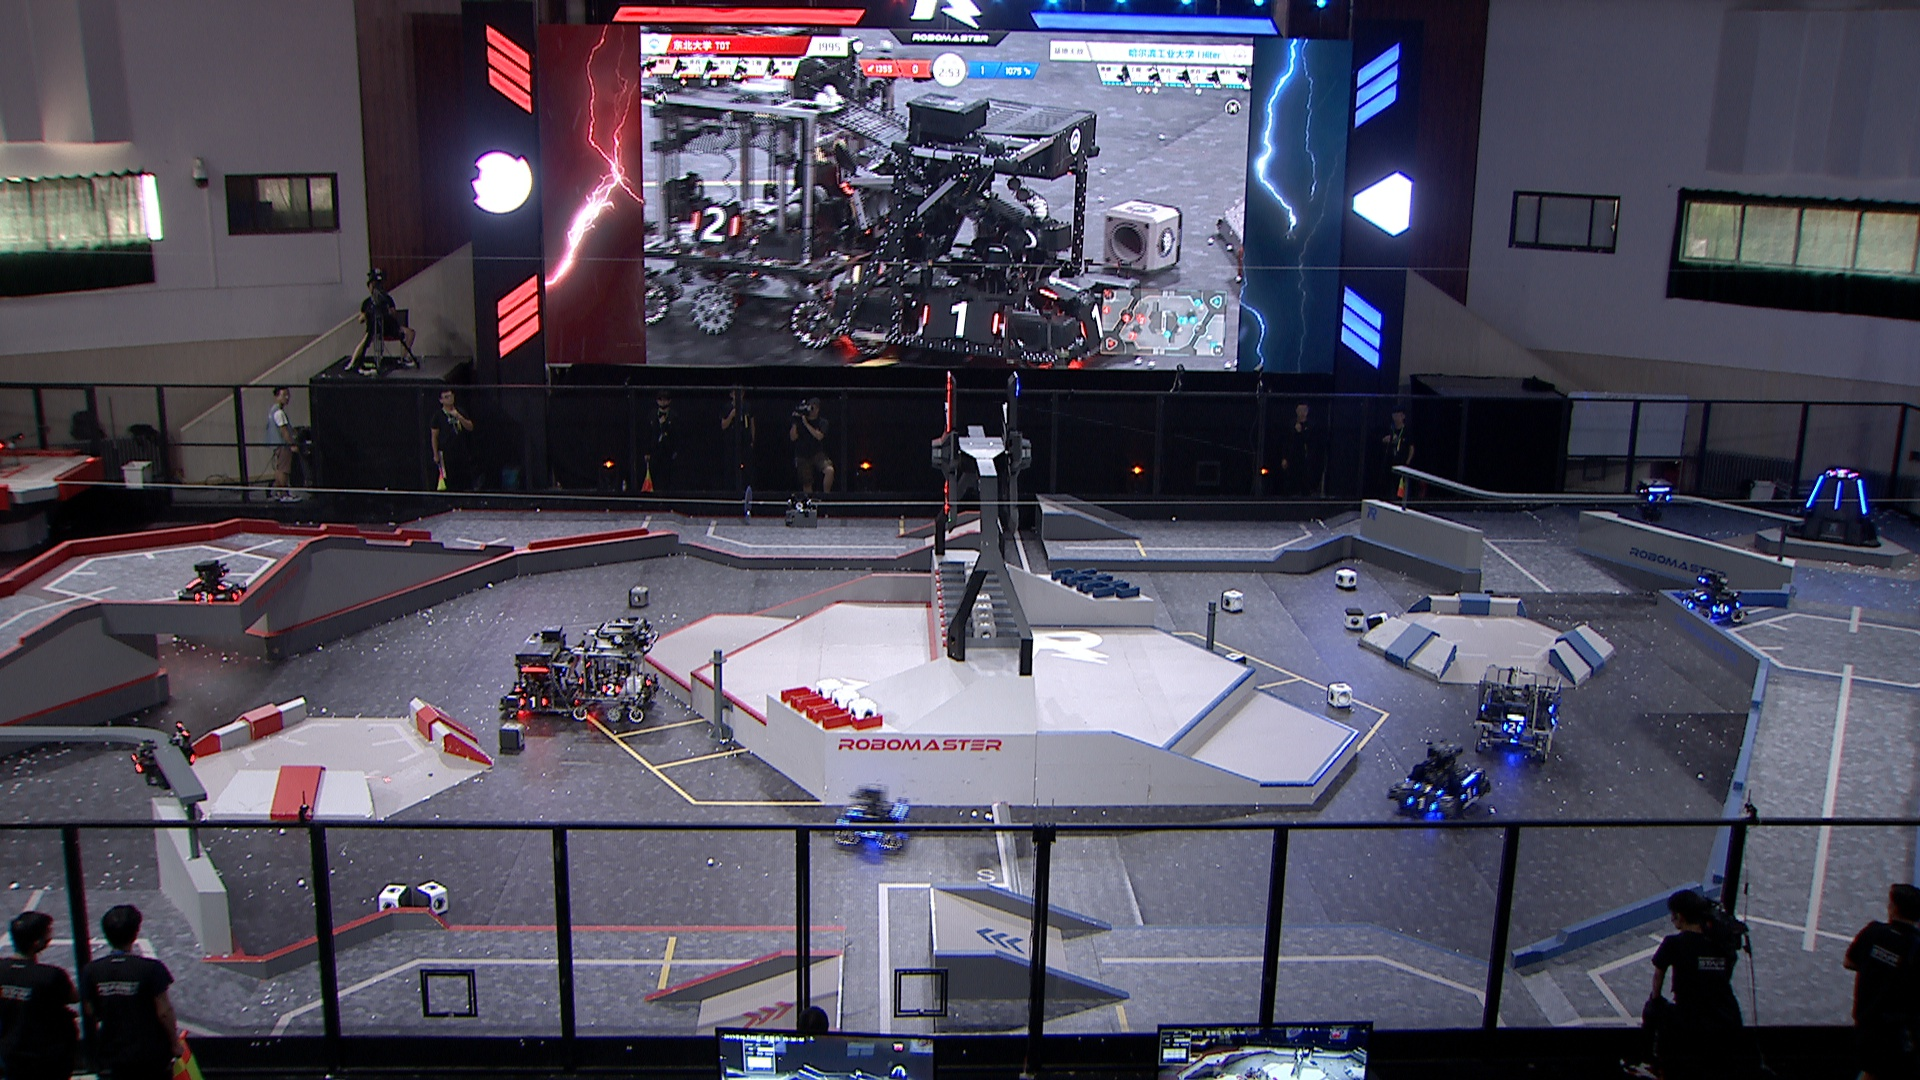armor: (1404, 793, 1439, 814), (514, 694, 549, 712), (855, 820, 884, 840), (1414, 781, 1447, 798), (1855, 476, 1869, 516), (1807, 475, 1822, 508), (1457, 783, 1481, 803), (844, 799, 865, 820), (191, 589, 218, 605), (599, 680, 622, 698), (1832, 477, 1844, 510), (1647, 491, 1673, 505), (1688, 585, 1709, 603), (128, 752, 142, 775), (1712, 600, 1731, 617), (1501, 721, 1522, 737), (216, 579, 233, 593)
base: (1785, 463, 1883, 549)
car: (1474, 661, 1567, 767), (574, 616, 659, 727), (1382, 738, 1495, 820), (498, 629, 589, 723), (837, 783, 916, 855), (175, 555, 249, 612), (1676, 570, 1750, 622)
ignore: (832, 95, 1139, 371), (641, 59, 895, 324), (1826, 467, 1859, 480)
watcher: (128, 717, 204, 794), (1633, 473, 1677, 522)
